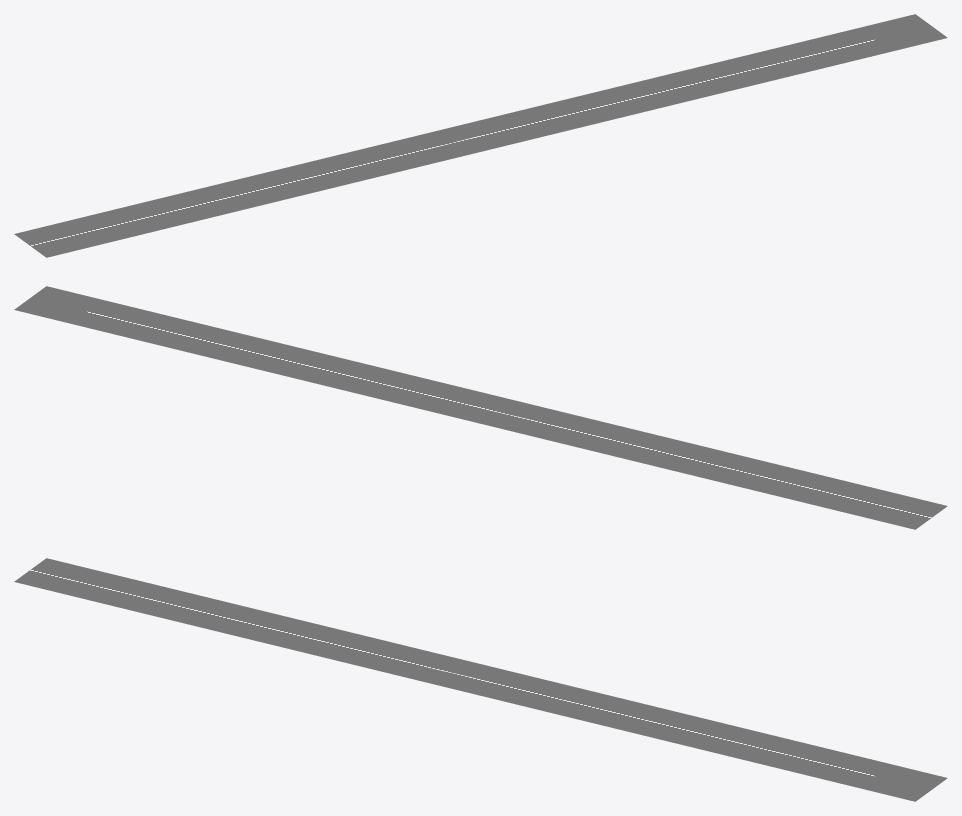
File: road_fernando.glb
3 views of the same model, one above another, from view 1: azimuth 30°, elevation 25°; view 2: azimuth 150°, elevation 25°; view 3: azimuth 330°, elevation 25° (orthographic).
Parts seen in each view (by area): view 1: Plane; view 2: Plane; view 3: Plane.
Part boxes in pixels (x1,y1,x2,y2): Plane: (14,14,947,257); Plane: (14,286,947,529); Plane: (14,558,947,801).
Size of what is drawn, in the model's own units: 128 by 0 by 8.
Materials: 2 (1 with a texture image).
